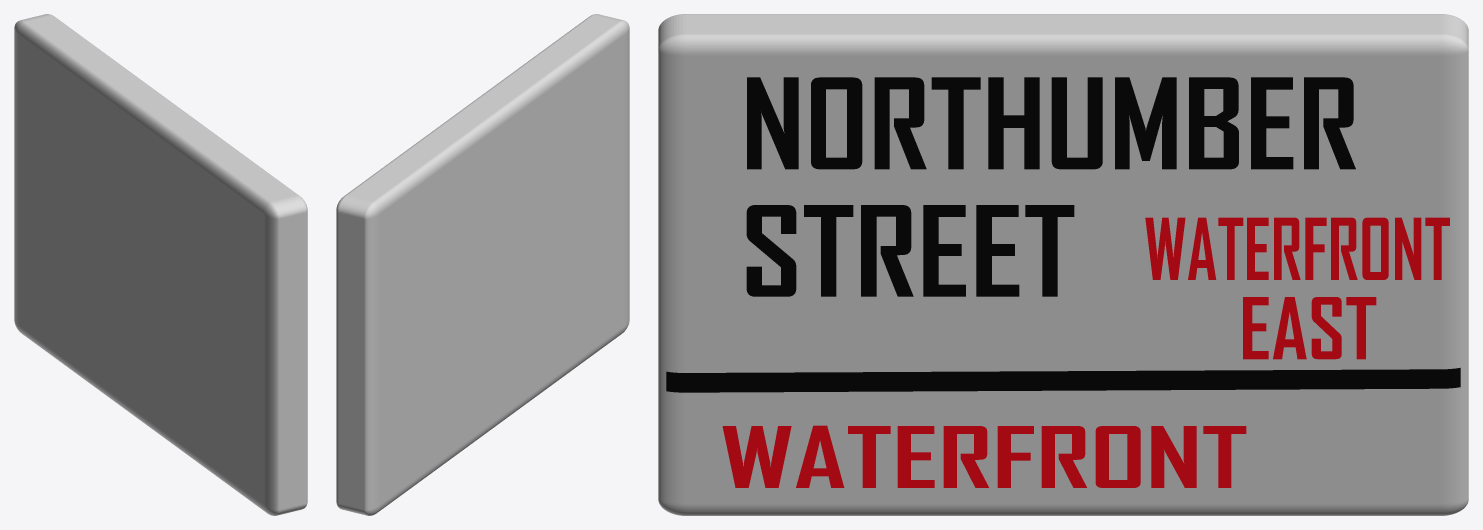
The model's file is uk_styled_street_sign_57.fbx.
3 renders of one model, left to right at view 1: azimuth 30°, elevation 25°; view 2: azimuth 150°, elevation 25°; view 3: azimuth 270°, elevation 25°, orthographic. The views are drawn at different scales.
Visible parts, largest first — view 1: Cube; view 2: Cube; view 3: Cube, Text, Text.002, Text.001, Text.003, Text.004.
Boxes of the visible parts, x1=… form: Cube: x1=14, y1=14, x2=307, y2=515; Cube: x1=336, y1=14, x2=629, y2=515; Cube: x1=658, y1=14, x2=1468, y2=515; Text: x1=747, y1=77, x2=1355, y2=169; Text.002: x1=722, y1=425, x2=1246, y2=487; Text.001: x1=746, y1=205, x2=1074, y2=296; Text.003: x1=1145, y1=217, x2=1449, y2=279; Text.004: x1=1243, y1=297, x2=1376, y2=359.
Bounding box in the file's own units: 1.63 × 11.91 × 18.18.
